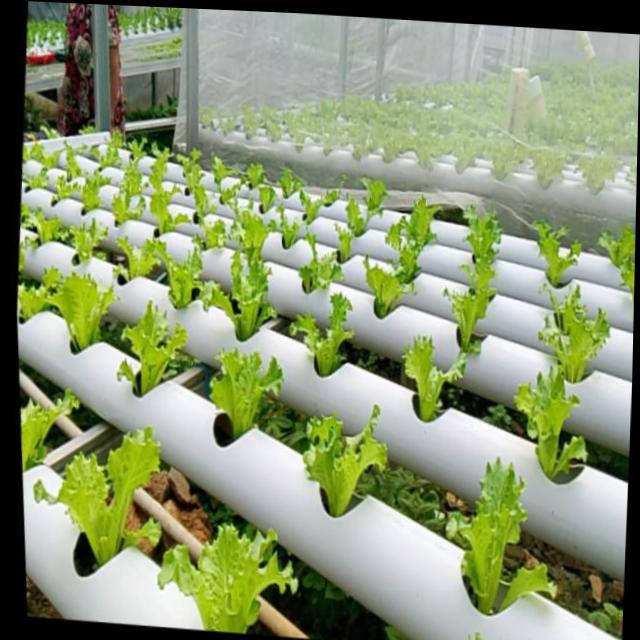Baby: (30, 424, 156, 561), (153, 521, 293, 632), (443, 455, 521, 612), (299, 403, 383, 516), (441, 205, 497, 359), (509, 365, 582, 478), (205, 348, 279, 446), (535, 283, 605, 381), (117, 300, 183, 396), (45, 267, 115, 350), (286, 292, 350, 376), (400, 334, 462, 420), (141, 237, 209, 310), (382, 195, 437, 282), (284, 233, 340, 293), (529, 220, 577, 286), (359, 257, 411, 317), (108, 141, 145, 225), (226, 202, 273, 265), (613, 253, 635, 314), (87, 131, 119, 167), (78, 169, 105, 211), (215, 176, 238, 208), (200, 218, 223, 248), (61, 142, 79, 180)
